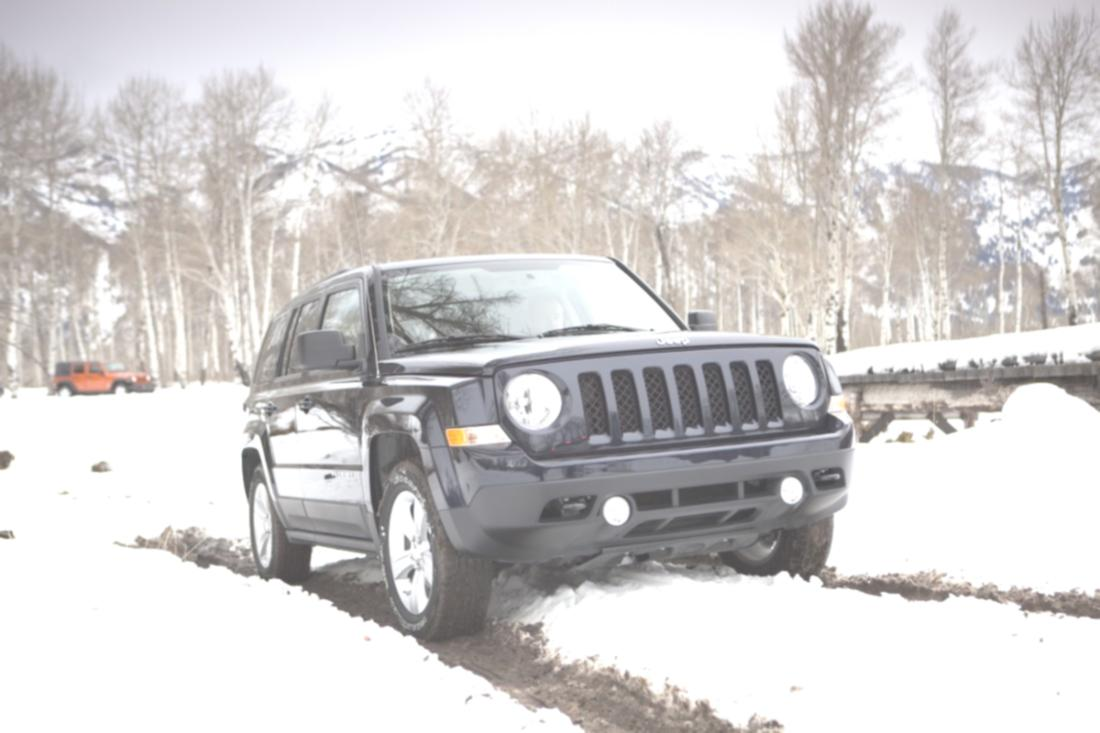jeep: (645, 328, 704, 354)
